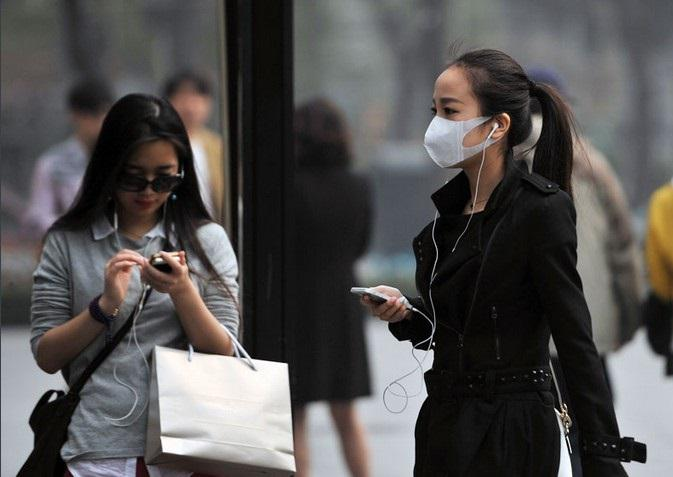NONE: (118, 158, 177, 214)
OK: (420, 92, 496, 168)
